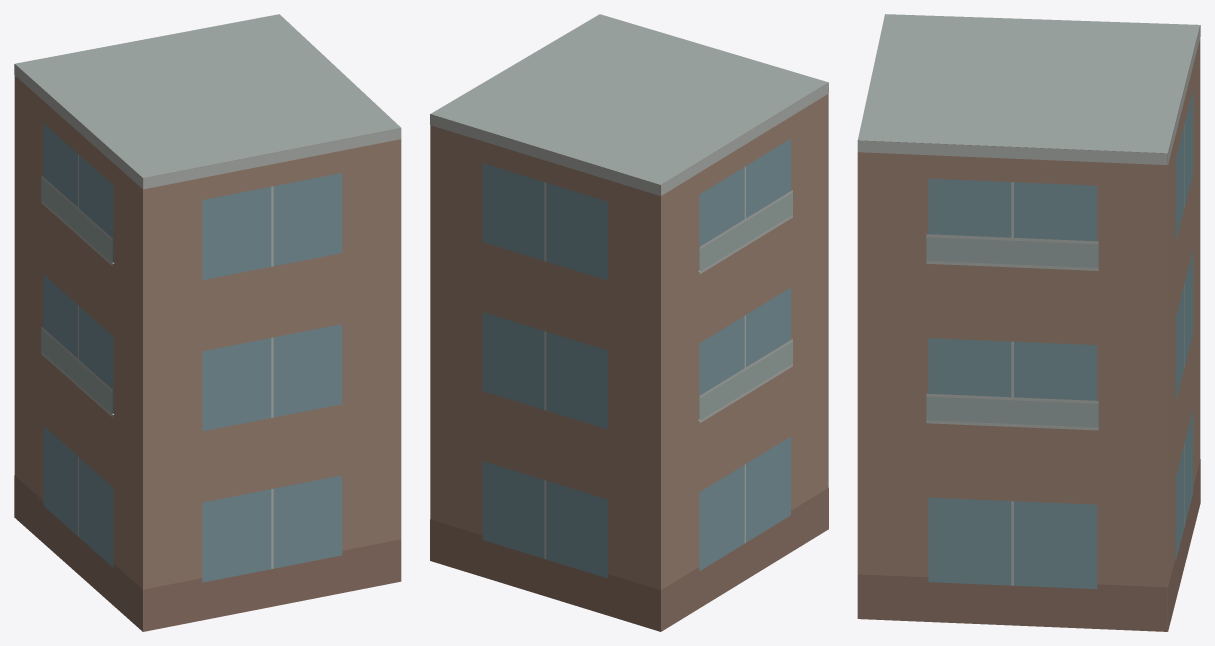
Rendered from survey-upis-32895203.glb.
3 views of the same model, side by side, from view 1: azimuth 30°, elevation 25°; view 2: azimuth 150°, elevation 25°; view 3: azimuth 270°, elevation 25° (orthographic). The views are drawn at different scales.
Visible parts, largest first — view 1: survey-upis-32895203.tmp; view 2: survey-upis-32895203.tmp; view 3: survey-upis-32895203.tmp.
Part boxes in pixels (box(x1,y1,x2,y2)): survey-upis-32895203.tmp: box(14, 14, 401, 631); survey-upis-32895203.tmp: box(430, 14, 828, 631); survey-upis-32895203.tmp: box(857, 14, 1200, 631).
Bounding box in the file's own units: 6.13 × 9.8 × 6.37.
